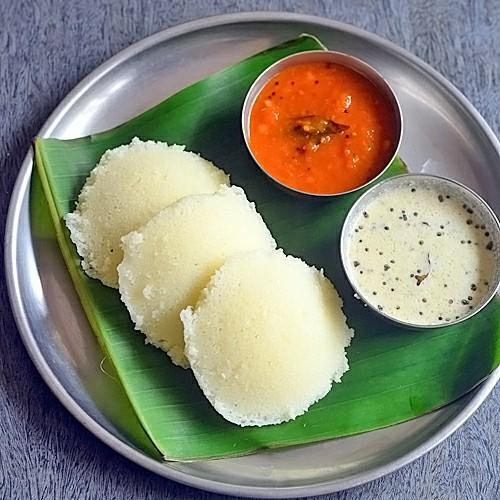CoconutChutney: (341, 182, 498, 326)
Idli: (117, 184, 280, 369), (183, 246, 349, 424), (62, 140, 234, 287)
